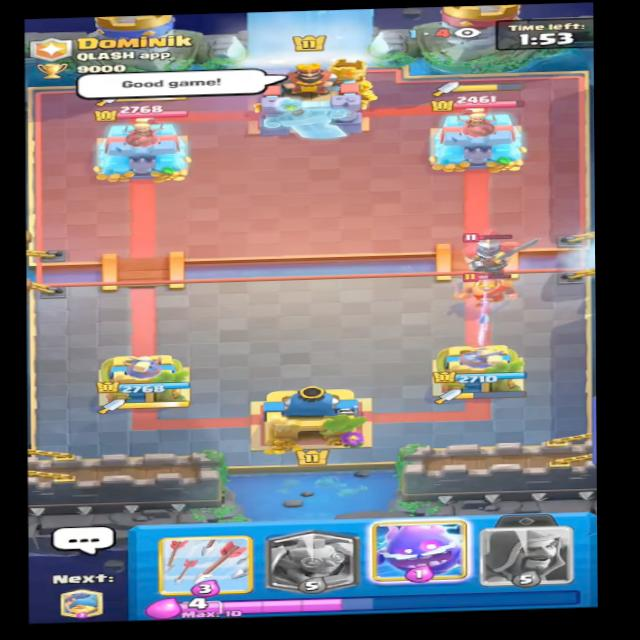guardian: (452, 228, 540, 270)
knight: (458, 267, 523, 309)
